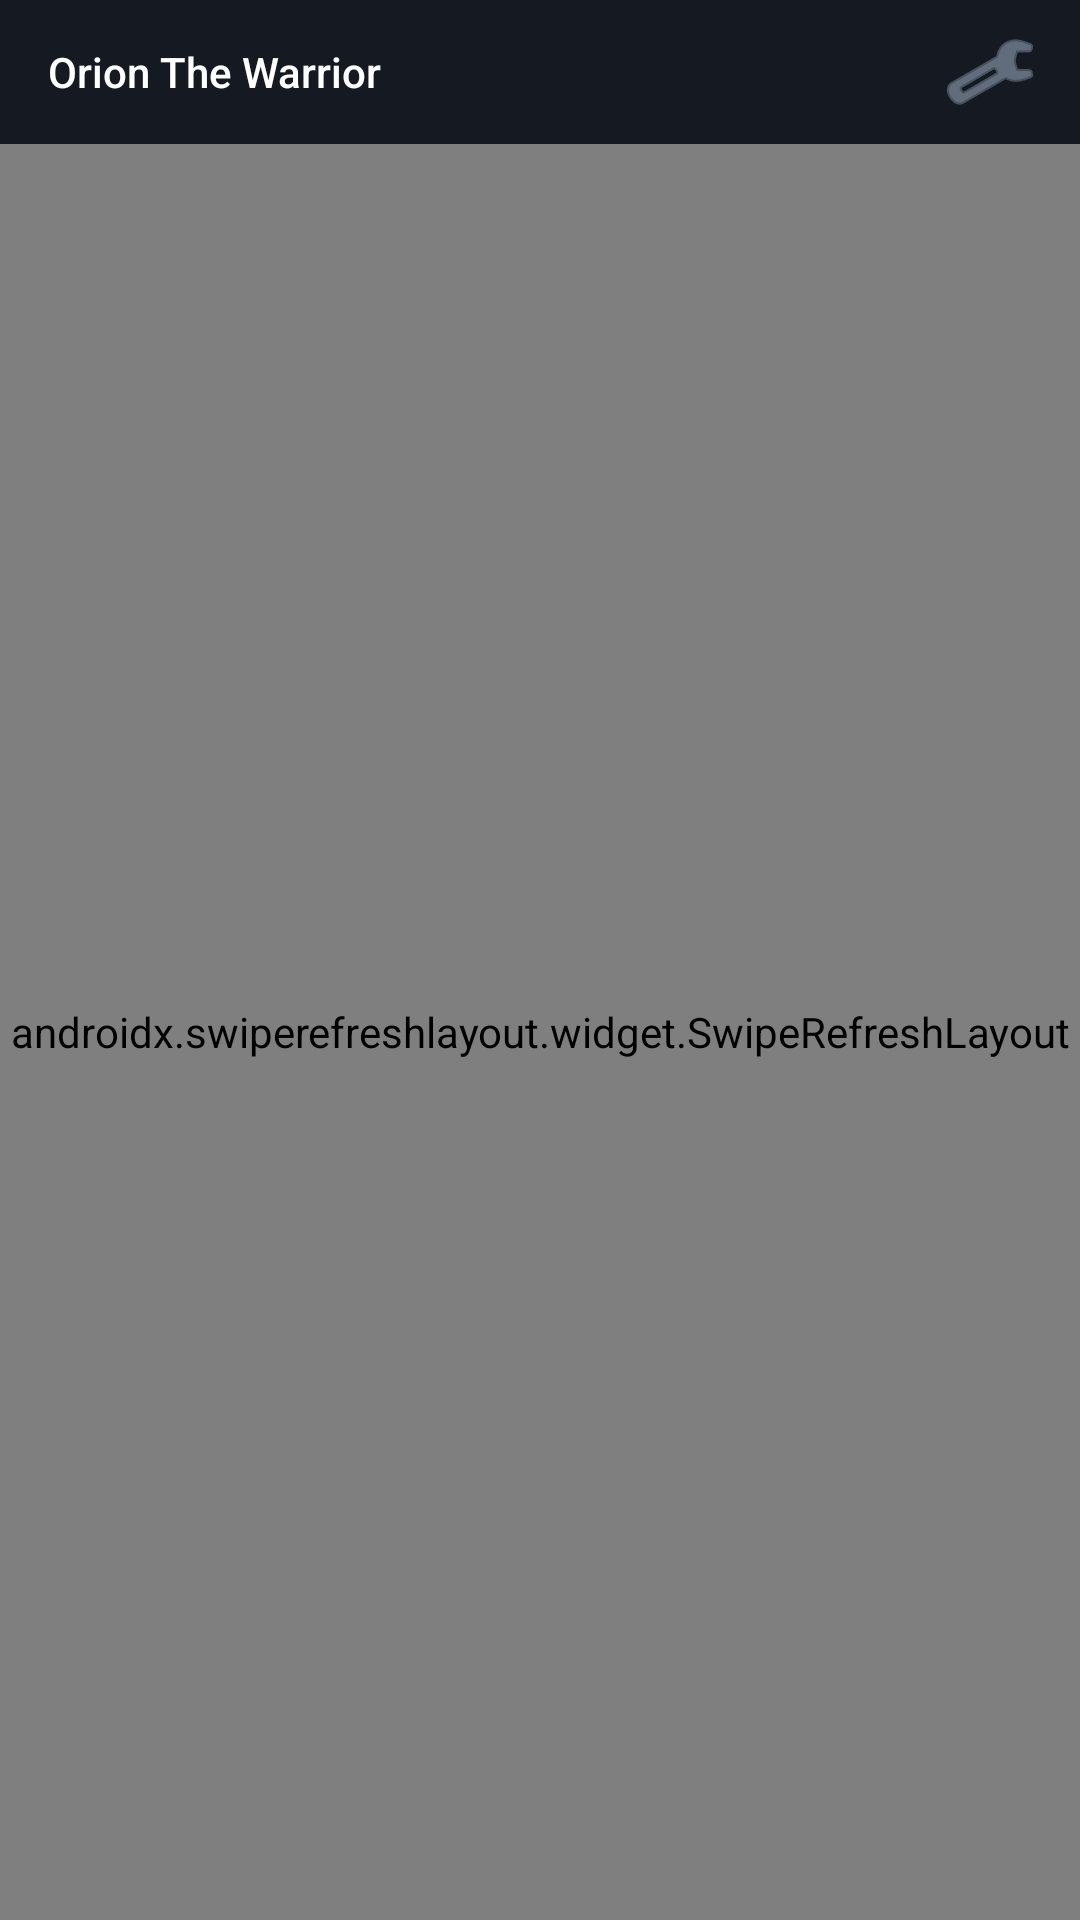

Named icons in this screenshot (1080x1920) and their bounding boxes, [x1,y1,x2,y2]:
Server Settings: [947,39,1033,105]
